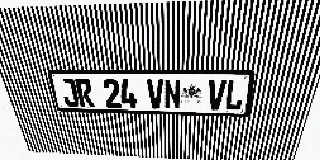2: (102, 79, 122, 108)
4: (119, 79, 137, 108)
J: (59, 78, 80, 107)
L: (224, 79, 246, 111)
N: (164, 79, 181, 109)
R: (74, 78, 95, 107)
V: (207, 79, 227, 110), (147, 79, 164, 109)
